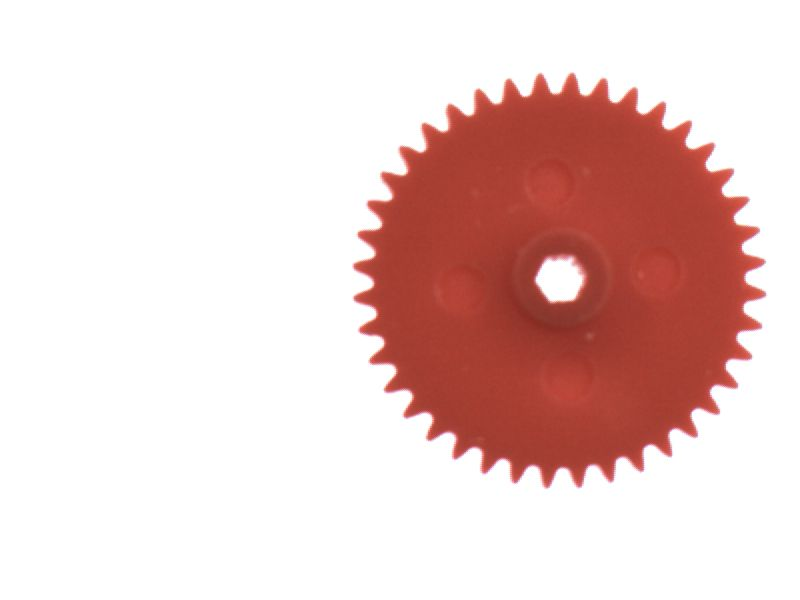good_product: (336, 56, 776, 494)
